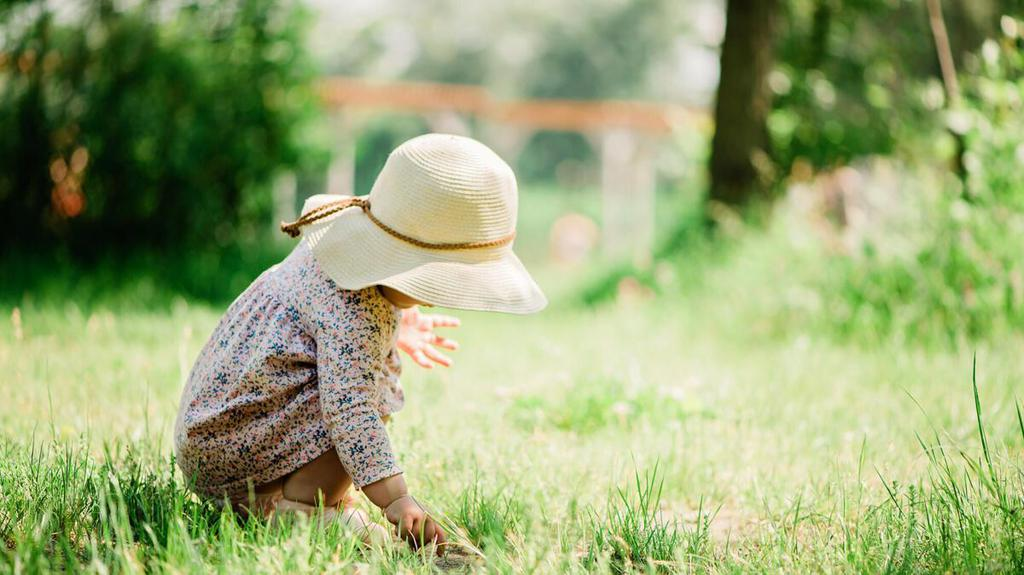child: (141, 119, 561, 559)
